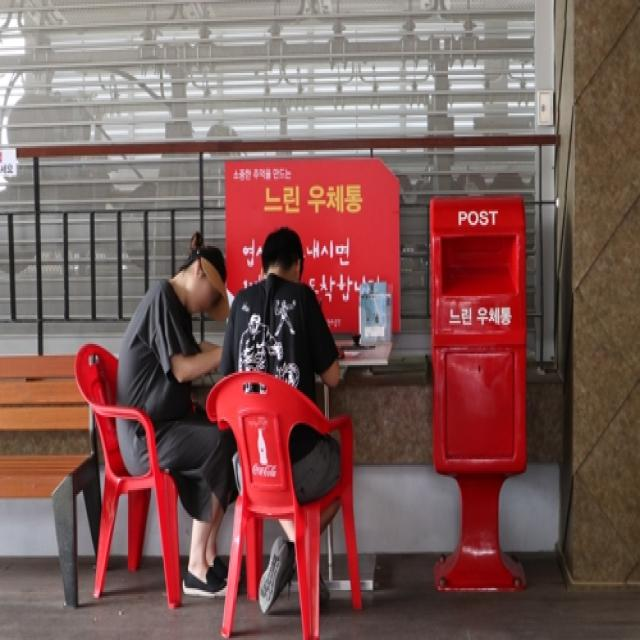Post Box: (430, 192, 528, 594)
